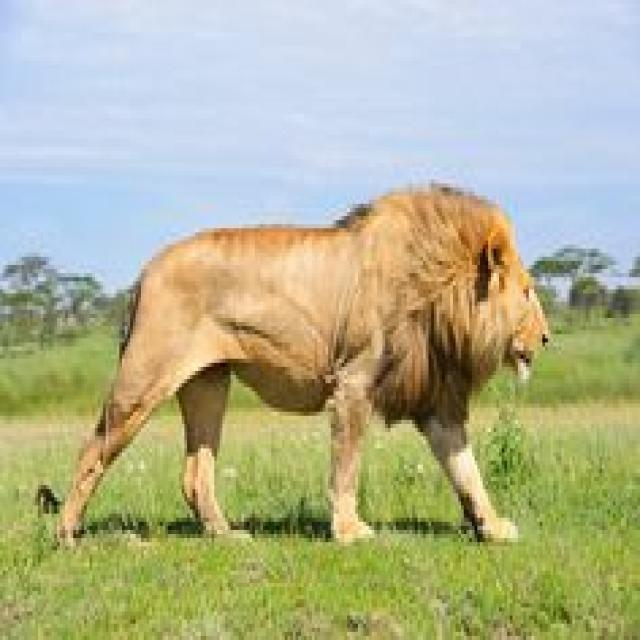lions: (20, 146, 640, 591)
